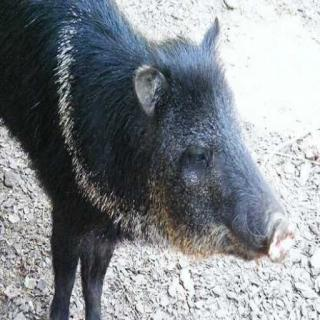Pig: (0, 0, 300, 312)
